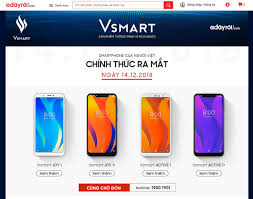vsmart: (32, 88, 69, 159), (84, 90, 121, 161), (138, 92, 175, 163), (192, 92, 229, 163)
